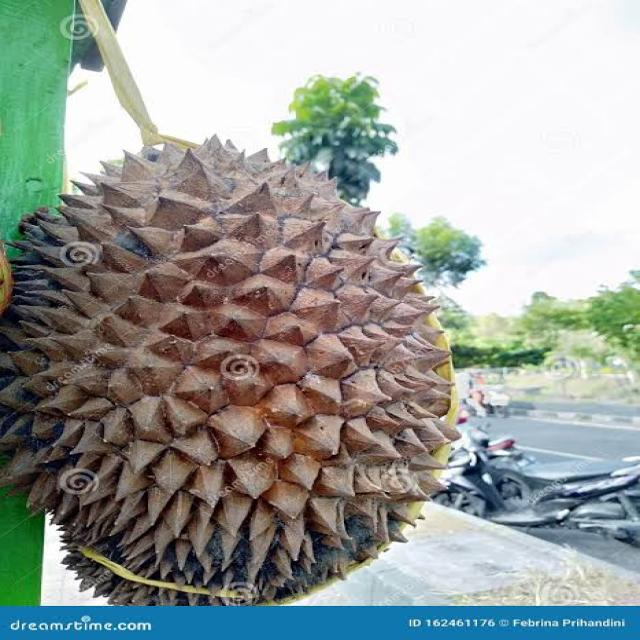mature: (4, 138, 465, 601)
